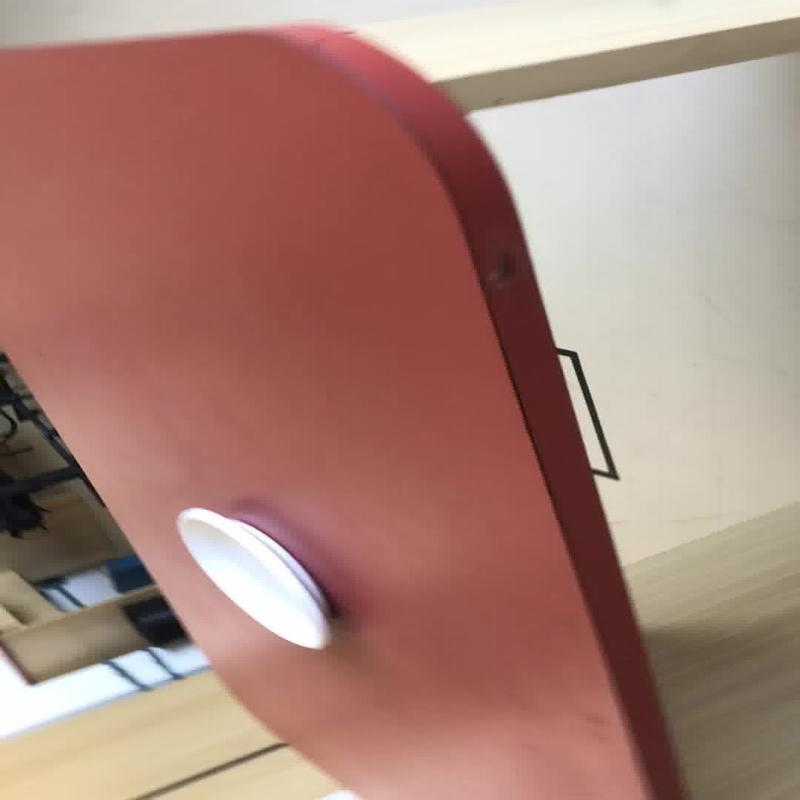plate: (0, 20, 686, 798), (174, 507, 334, 650)
